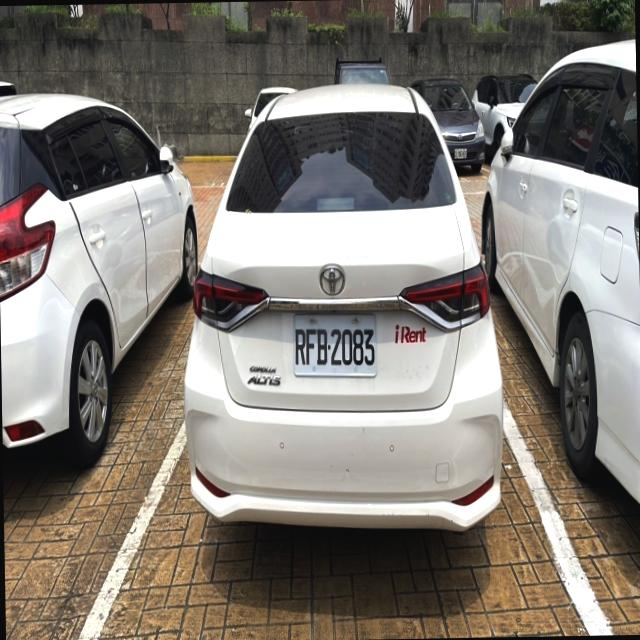license plate: (292, 314, 376, 375)
